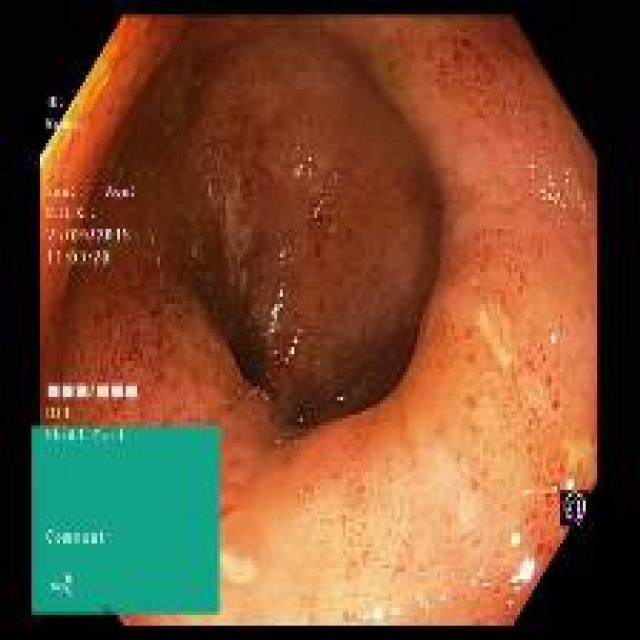ulcerative-colitis: (41, 17, 598, 623)
